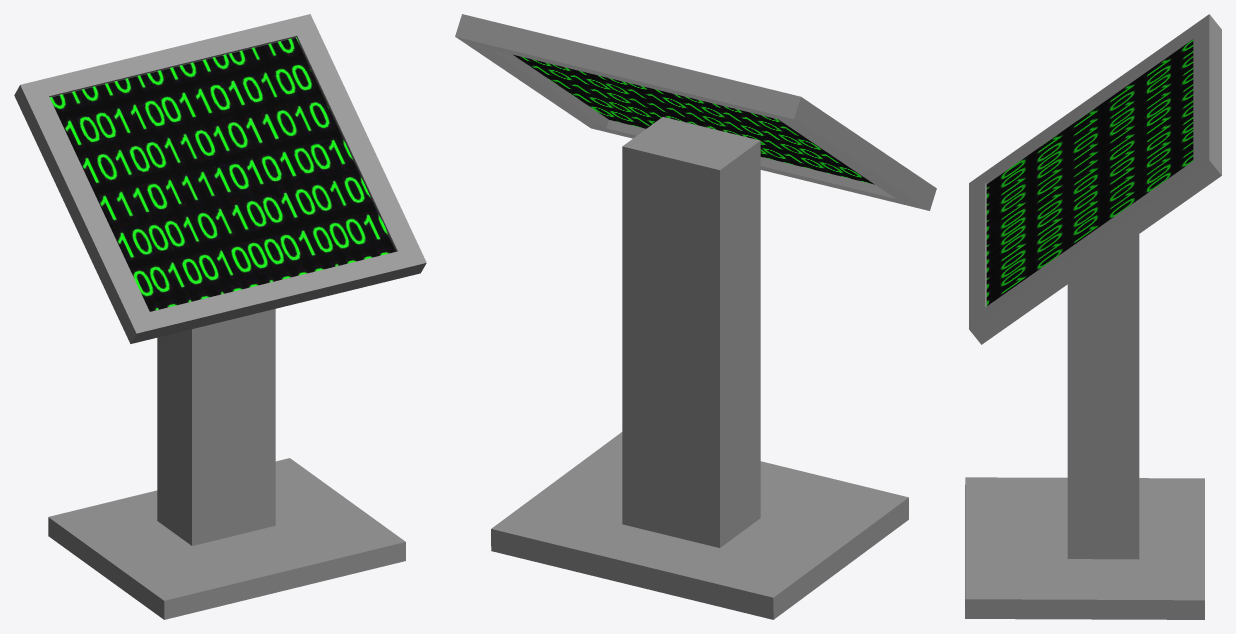
Rendered from Terminal1.FBX.
3 views of the same model, side by side, from view 1: azimuth 30°, elevation 25°; view 2: azimuth 150°, elevation 25°; view 3: azimuth 270°, elevation 25° (orthographic). The views are drawn at different scales.
Parts seen in each view (by area): view 1: Terminal; view 2: Terminal; view 3: Terminal.
Boxes of the visible parts, x1,y1,x2,y2 form: Terminal: [14, 14, 426, 619]; Terminal: [455, 14, 936, 619]; Terminal: [965, 14, 1221, 619].
Size of the model in its own units: 0.4321 by 0.6485 by 0.3204.
2 materials, 1 textured.
